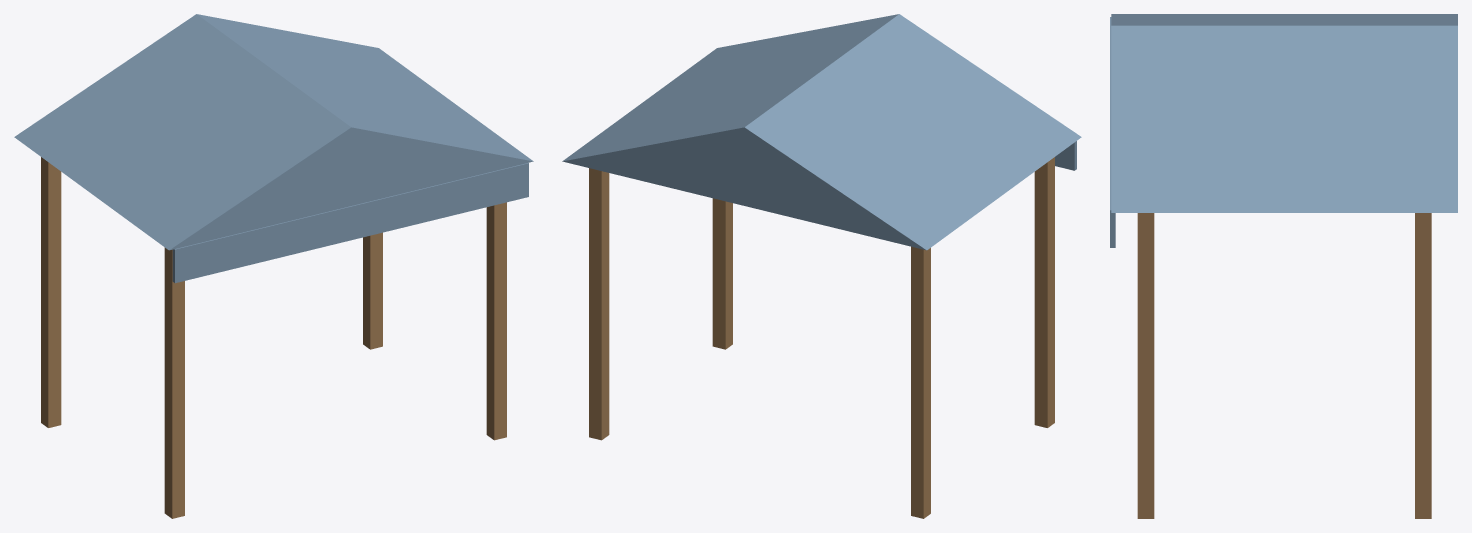
Rendered from market-awning.glb.
3 renders of one model, left to right at view 1: azimuth 30°, elevation 25°; view 2: azimuth 150°, elevation 25°; view 3: azimuth 270°, elevation 25°, orthographic. The views are drawn at different scales.
Parts seen in each view (by area): view 1: market-awning; view 2: market-awning; view 3: market-awning.
Boxes of the visible parts, x1,y1,x2,y2 form: market-awning: [14, 14, 533, 518]; market-awning: [562, 14, 1081, 518]; market-awning: [1110, 14, 1457, 518].
Size of the model in its own units: 3.4 by 3.2 by 2.51.
